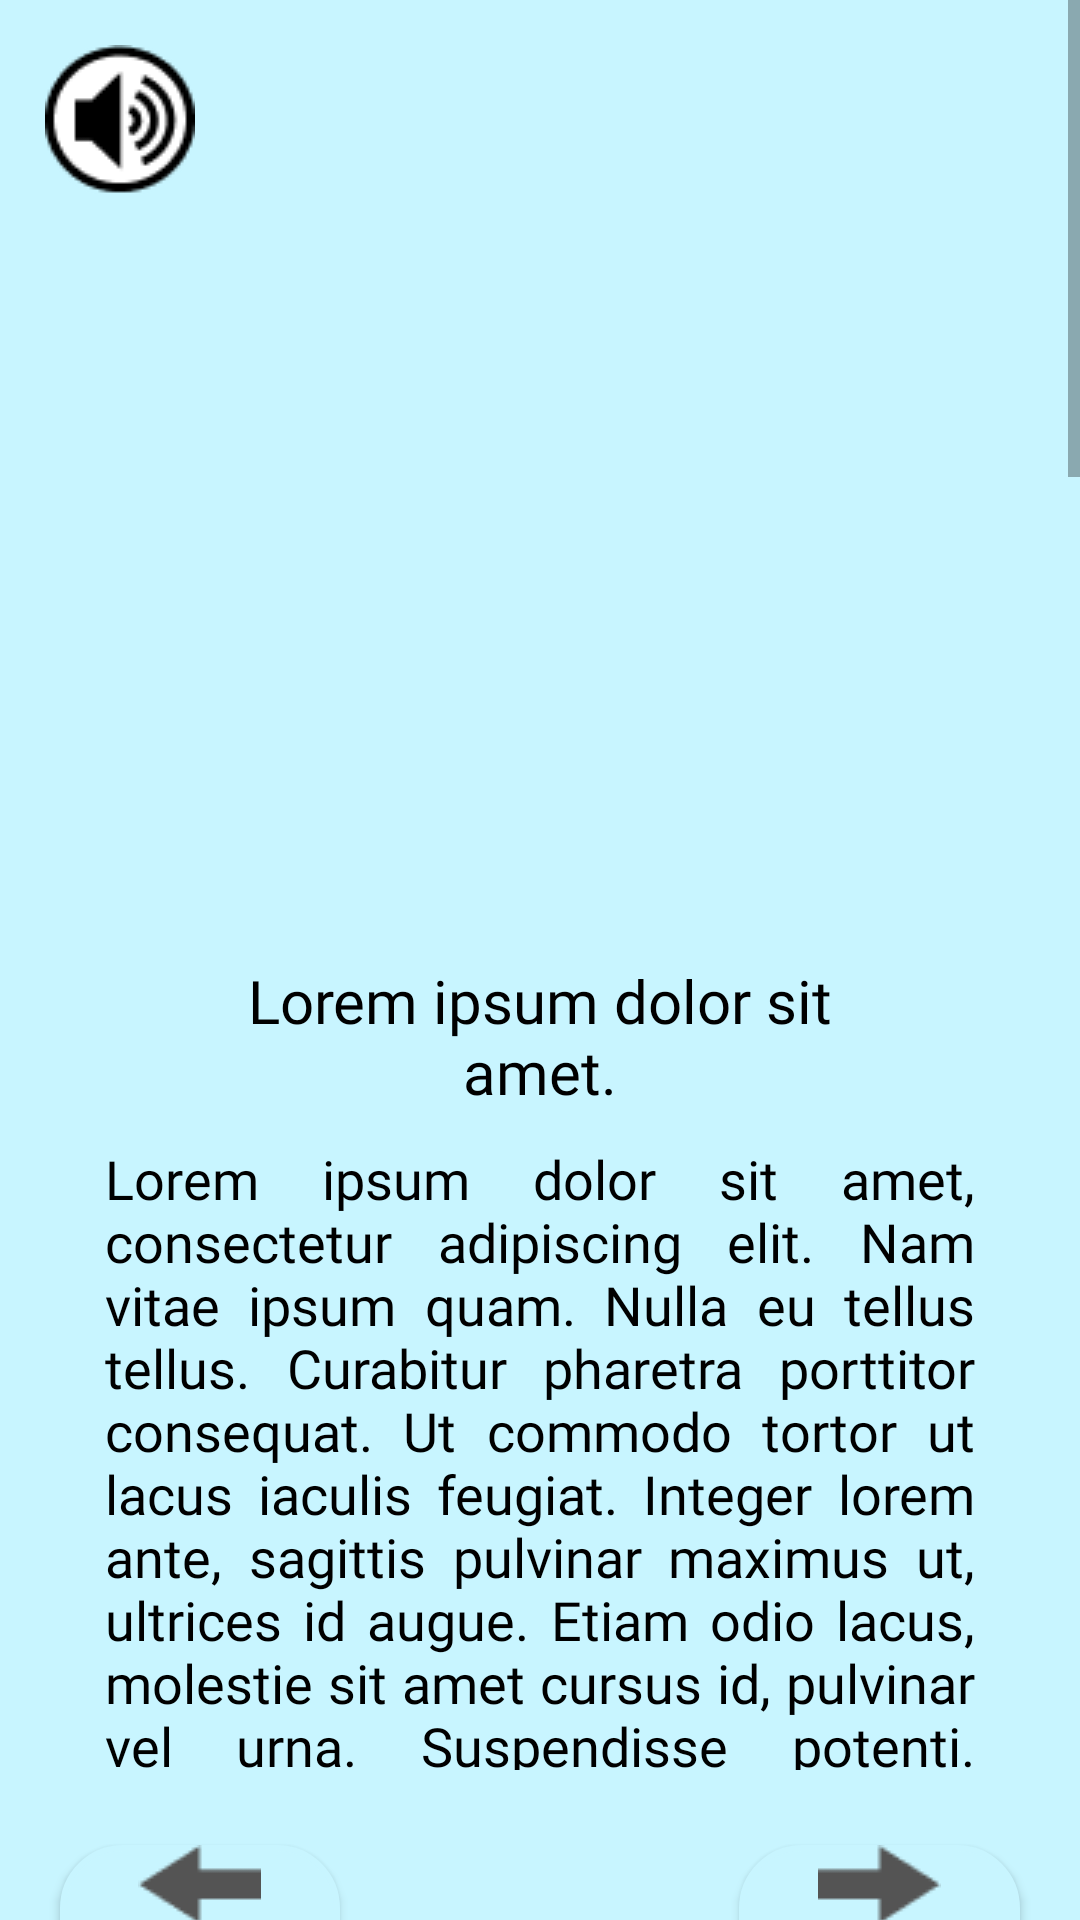

Screen size 1080px×1920px. Icon name, then its box in pixels as bbox=(x1, y1, x2, y2):
Reproducir el texto: bbox=(45, 45, 195, 193)
